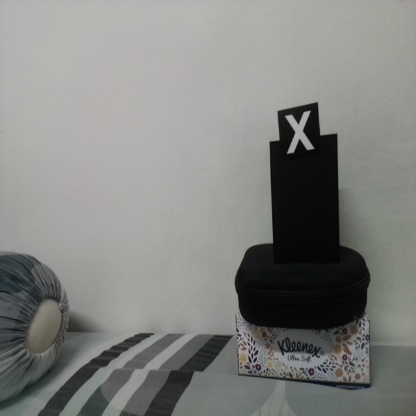id_13: (279, 109, 320, 162)
